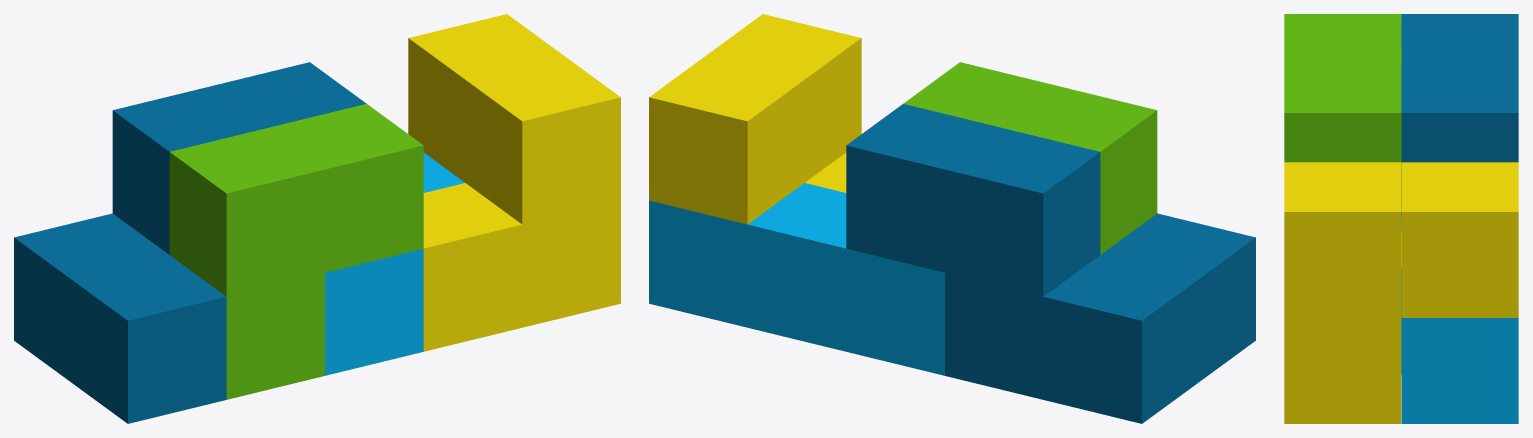
The picture shows the model from 3 angles, left to right: view 1: azimuth 30°, elevation 25°; view 2: azimuth 150°, elevation 25°; view 3: azimuth 270°, elevation 25°; orthographic projection. The views are drawn at different scales.
Visible parts, largest first — view 1: mergedBlocks(Clone); view 2: mergedBlocks(Clone); view 3: mergedBlocks(Clone).
Boxes of the visible parts, x1,y1,x2,y2 form: mergedBlocks(Clone): (14,14,620,423); mergedBlocks(Clone): (649,14,1255,423); mergedBlocks(Clone): (1284,14,1518,423).
Size of the model in its own units: 5 by 2 by 2.
4 materials, 4 textured.
